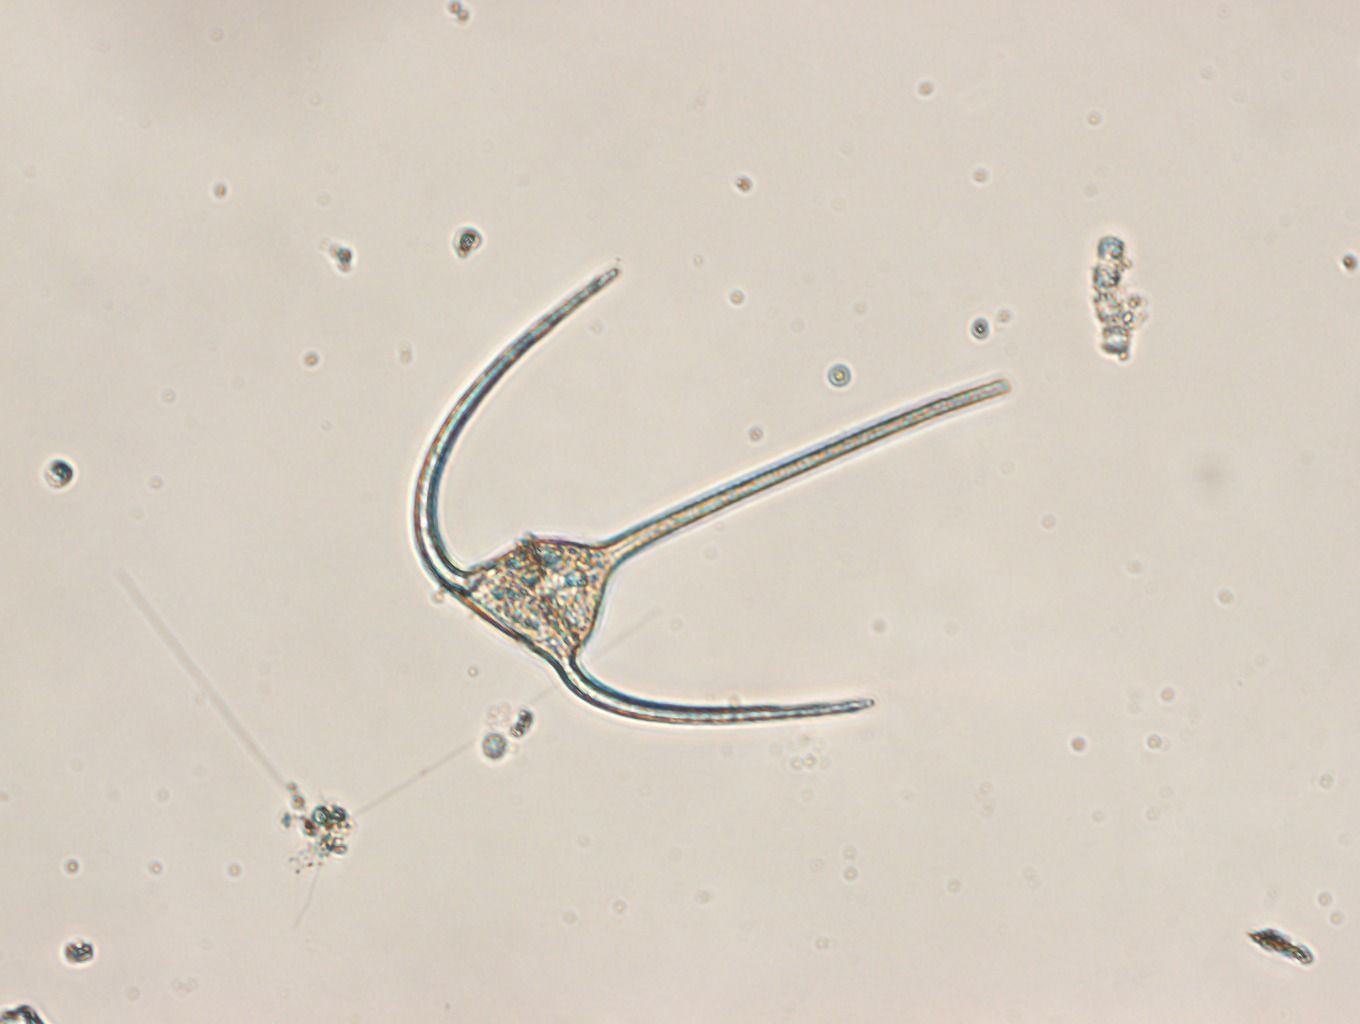ceratium trichoceros: (409, 265, 1010, 724)
